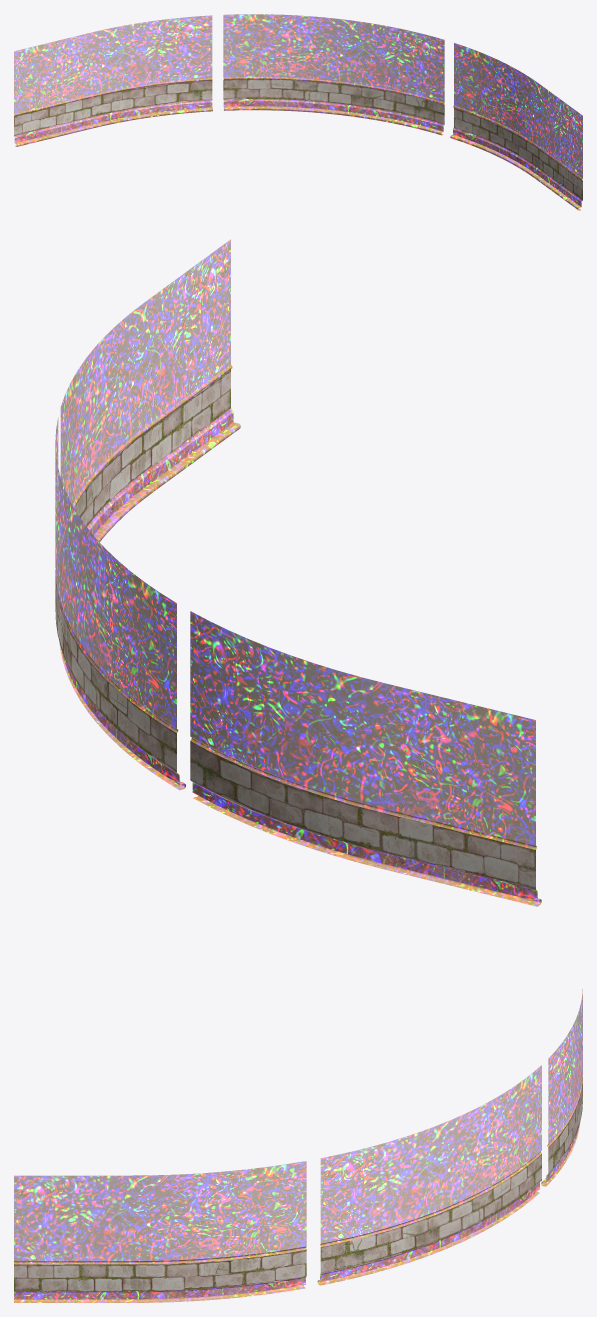
File: wall_corner_large_inverse_SM.fbx
3 renders of one model, top to bottom at view 1: azimuth 30°, elevation 25°; view 2: azimuth 150°, elevation 25°; view 3: azimuth 270°, elevation 25°, orthographic. The views are drawn at different scales.
Visible parts, largest first — view 1: wall_corner_large_inverse_SM_LOD0; view 2: wall_corner_large_inverse_SM_LOD0; view 3: wall_corner_large_inverse_SM_LOD0.
Part boxes in pixels (left/top/right/bottom): wall_corner_large_inverse_SM_LOD0: left=14, top=14, right=582, bottom=210; wall_corner_large_inverse_SM_LOD0: left=55, top=239, right=541, bottom=906; wall_corner_large_inverse_SM_LOD0: left=14, top=989, right=582, bottom=1302.
Size of the model in its own units: 2084 by 2084 by 519.
Materials: 4 (4 with a texture image).
